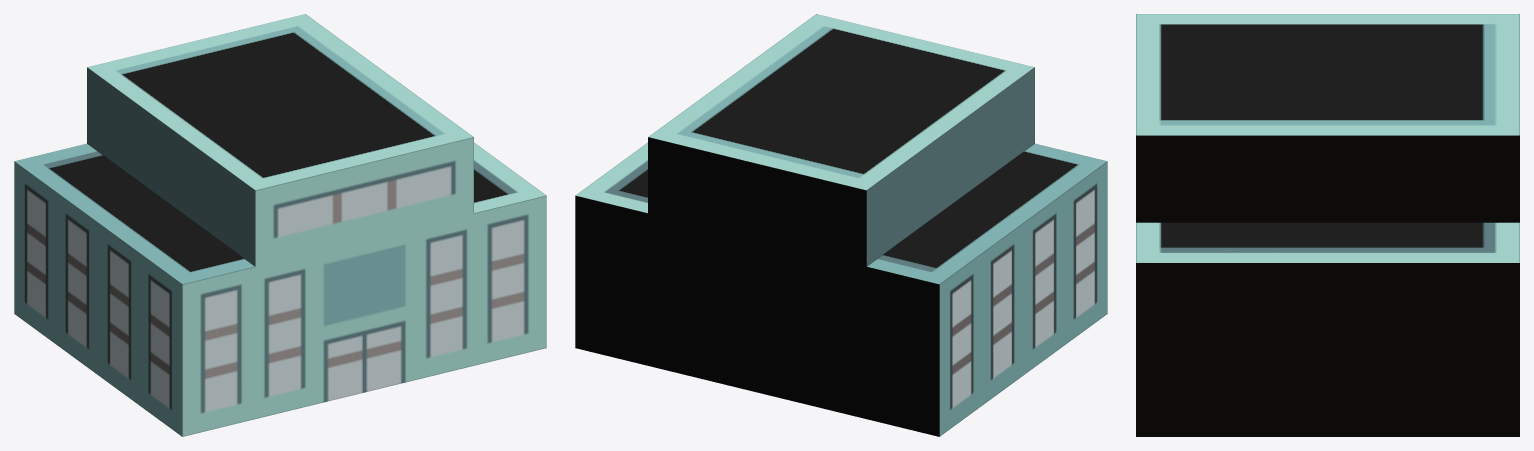
The model's file is town_hall_lvl3.FBX.
3 renders of one model, left to right at view 1: azimuth 30°, elevation 25°; view 2: azimuth 150°, elevation 25°; view 3: azimuth 270°, elevation 25°, orthographic. The views are drawn at different scales.
Visible parts, largest first — view 1: Box001; view 2: Box001; view 3: Box001.
Boxes of the visible parts, <box> form: Box001: <box>14,14,546,436</box>; Box001: <box>575,14,1107,436</box>; Box001: <box>1136,14,1519,436</box>.
Bounding box in the file's own units: 160 × 96 × 128.
Materials: 1 (1 with a texture image).
